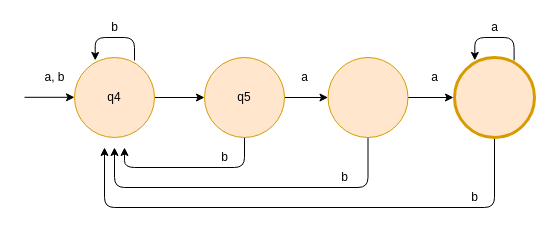
The diagram is 553 pixels wide and 233 high, and some of its shapes have lost their labels. Each missing label, with the box of its shape:
q6: (327, 56, 408, 138)
qf2: (452, 56, 536, 138)
